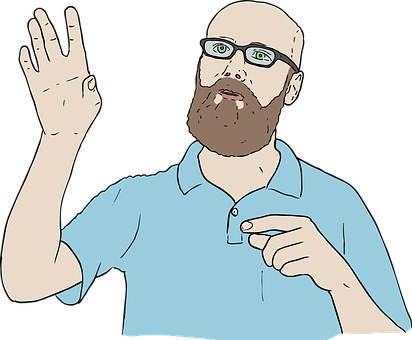palm: (38, 66, 100, 122)
